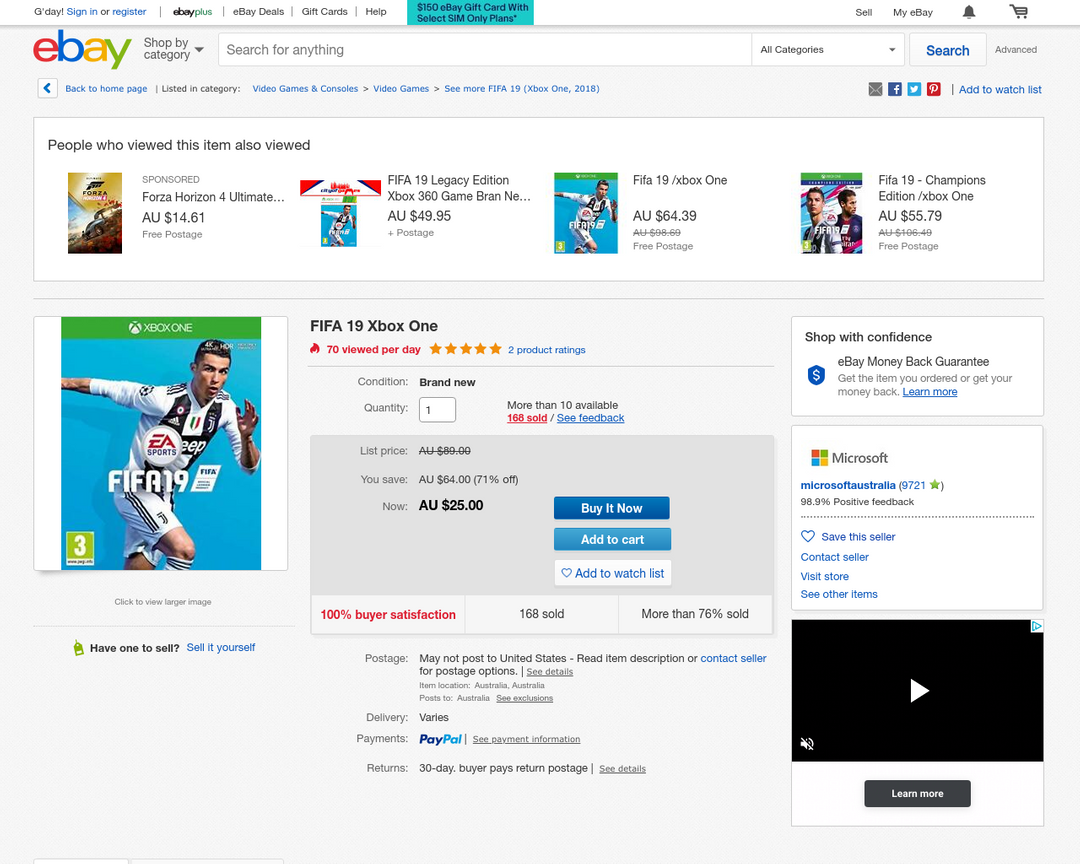Ebay: (31, 28, 134, 71)
